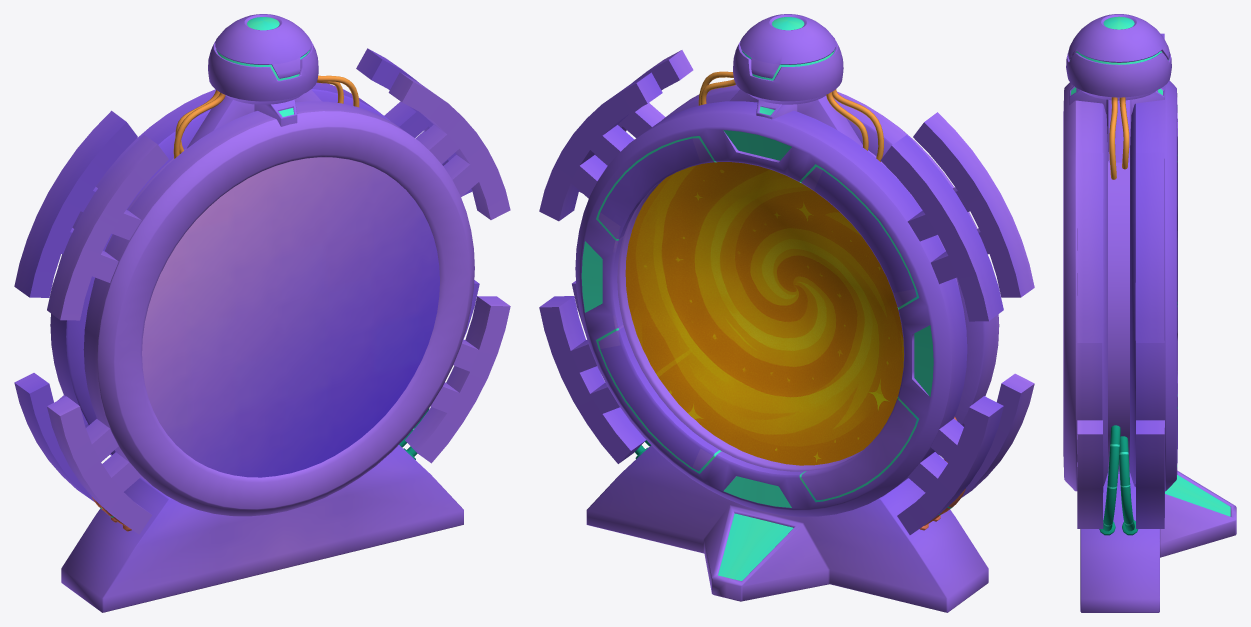
The model's file is congdichchuyen.fbx.
3 renders of one model, left to right at view 1: azimuth 30°, elevation 25°; view 2: azimuth 150°, elevation 25°; view 3: azimuth 270°, elevation 25°, orthographic. The views are drawn at different scales.
Visible parts, largest first — view 1: congdichchuyen; view 2: congdichchuyen; view 3: congdichchuyen.
Part boxes in pixels (<box>): congdichchuyen: <box>14,14,510,612</box>; congdichchuyen: <box>539,14,1034,612</box>; congdichchuyen: <box>1063,14,1236,612</box>.
Size of the model in its own units: 474 by 536 by 166.
